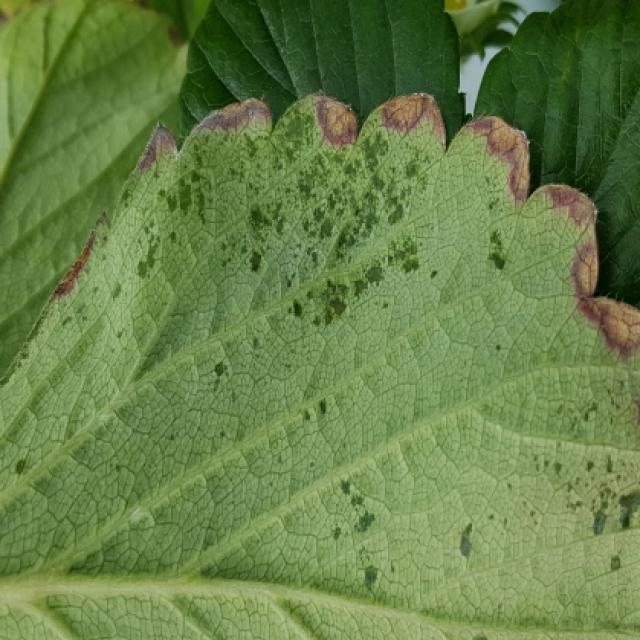Angular Leafspot: (0, 90, 638, 638)
